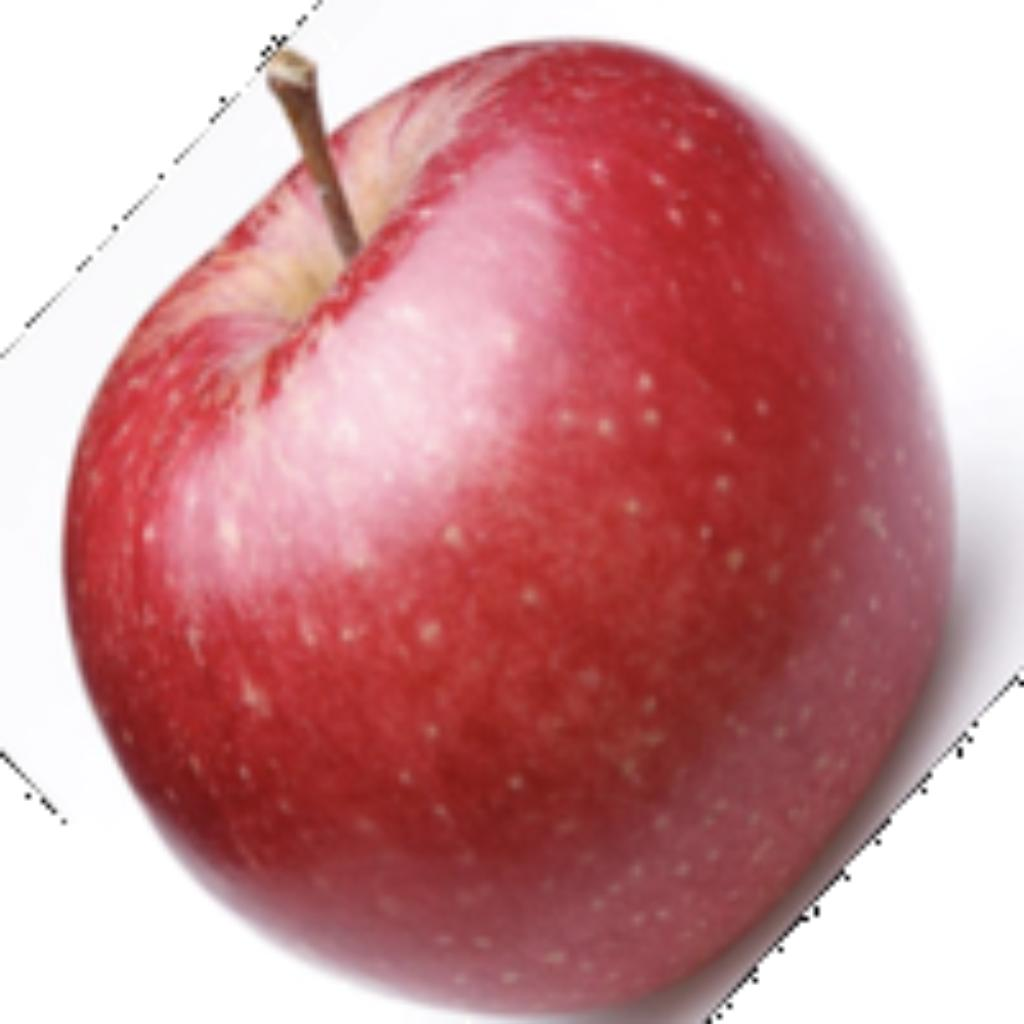apple: (51, 22, 1019, 1019)
